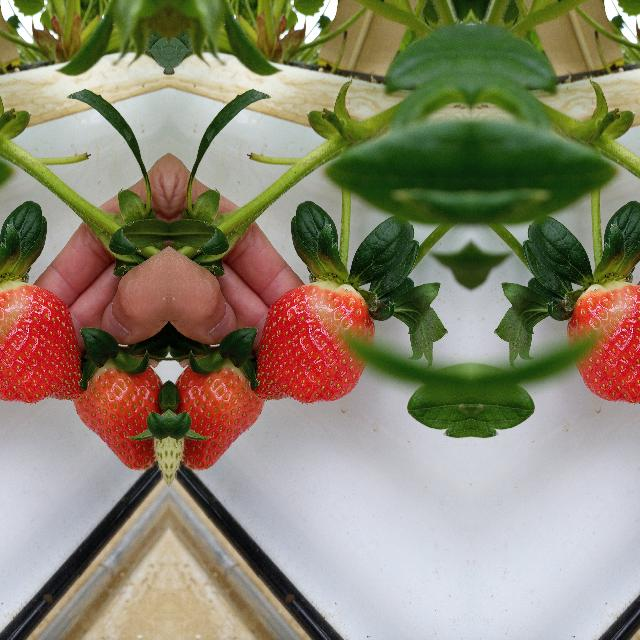Health_100: (252, 280, 374, 404), (0, 280, 84, 404), (567, 280, 640, 404)
